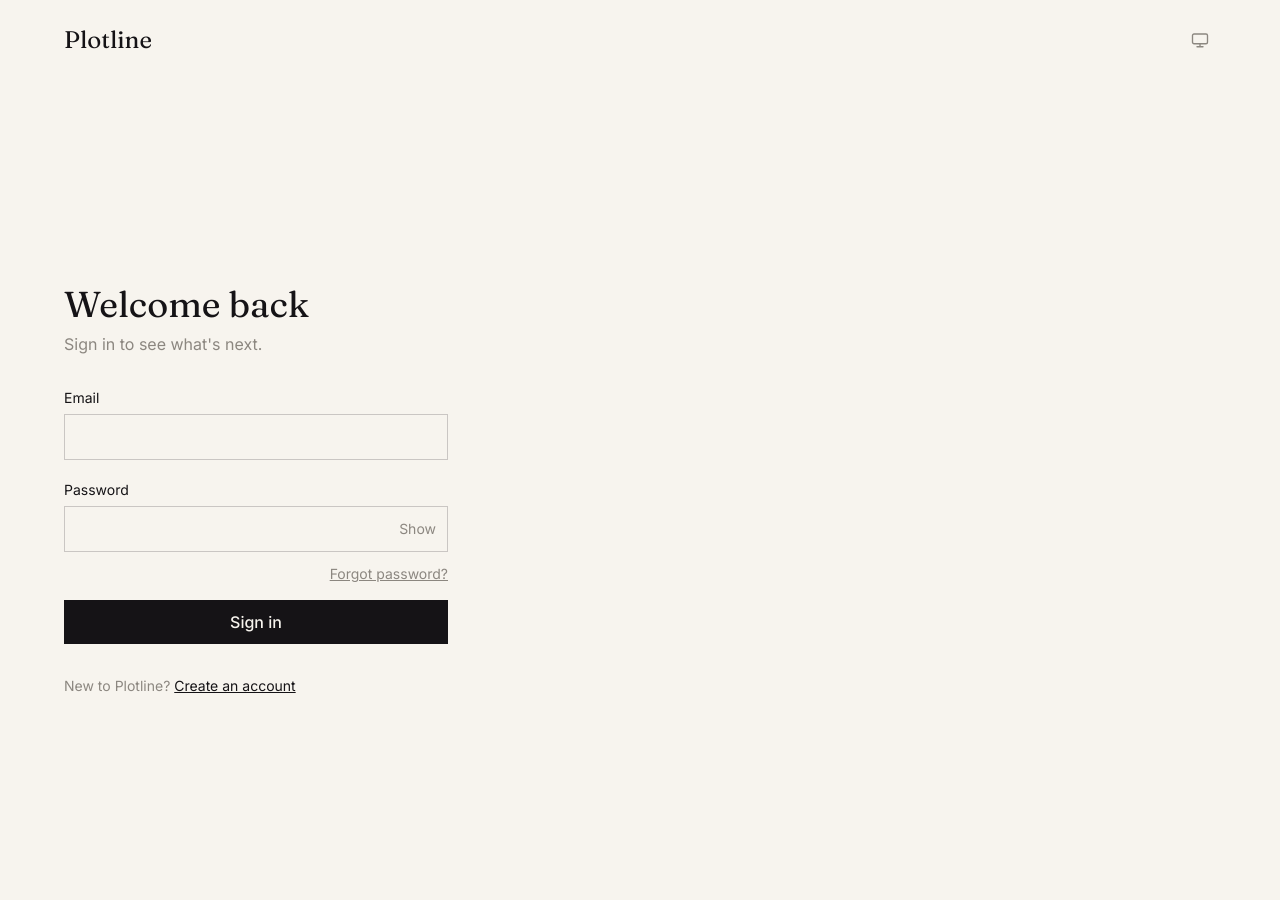
Test: Login page › shows FastAPI validation errors in a readable form
Type "sue@example.com" into the field labelled "Email".
click(256, 437); type("sue@example.com")  # box [64,414,448,460]
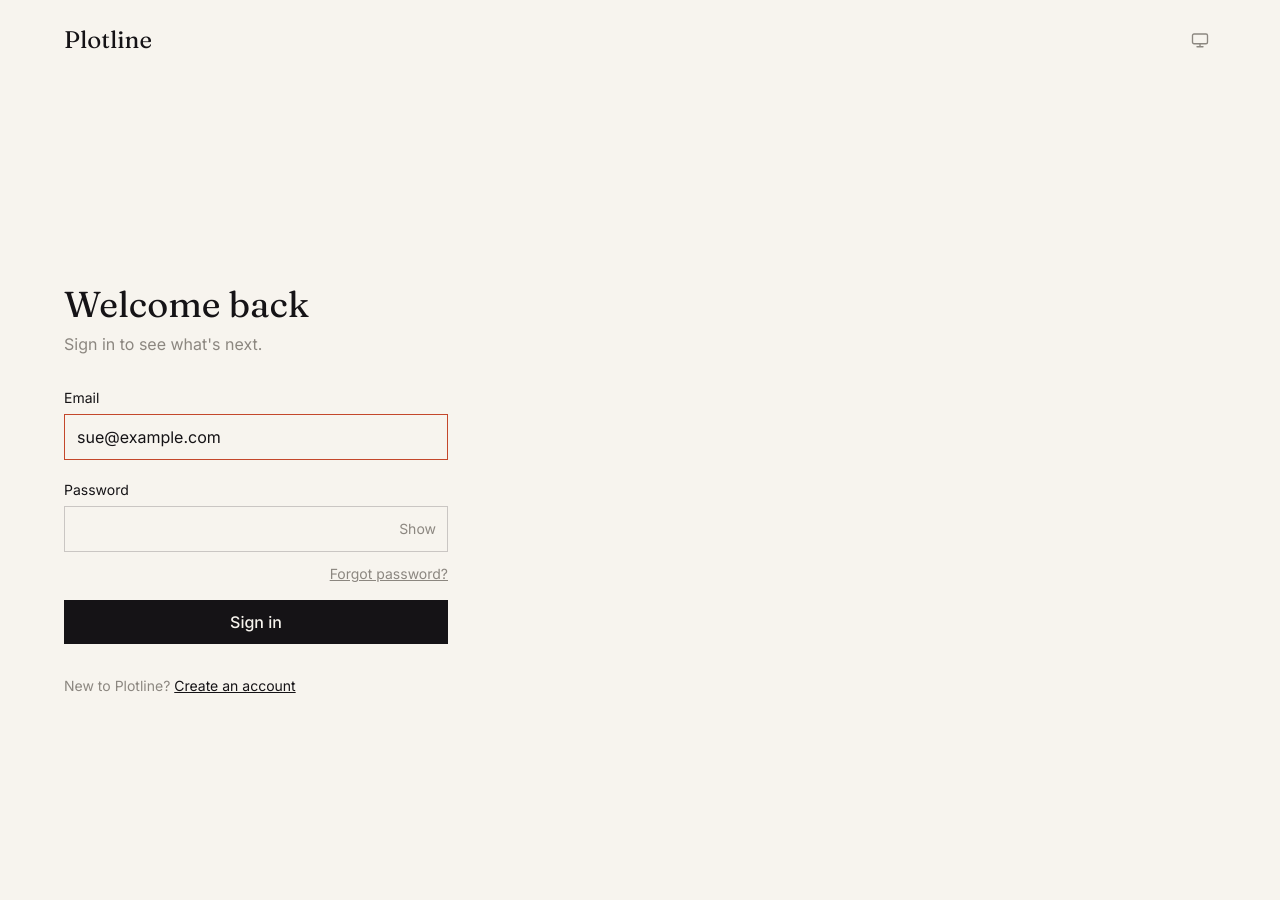
Type "correct-horse" into the password field labelled "Password".
click(256, 529); type("correct-horse")  # box [64,506,448,552]
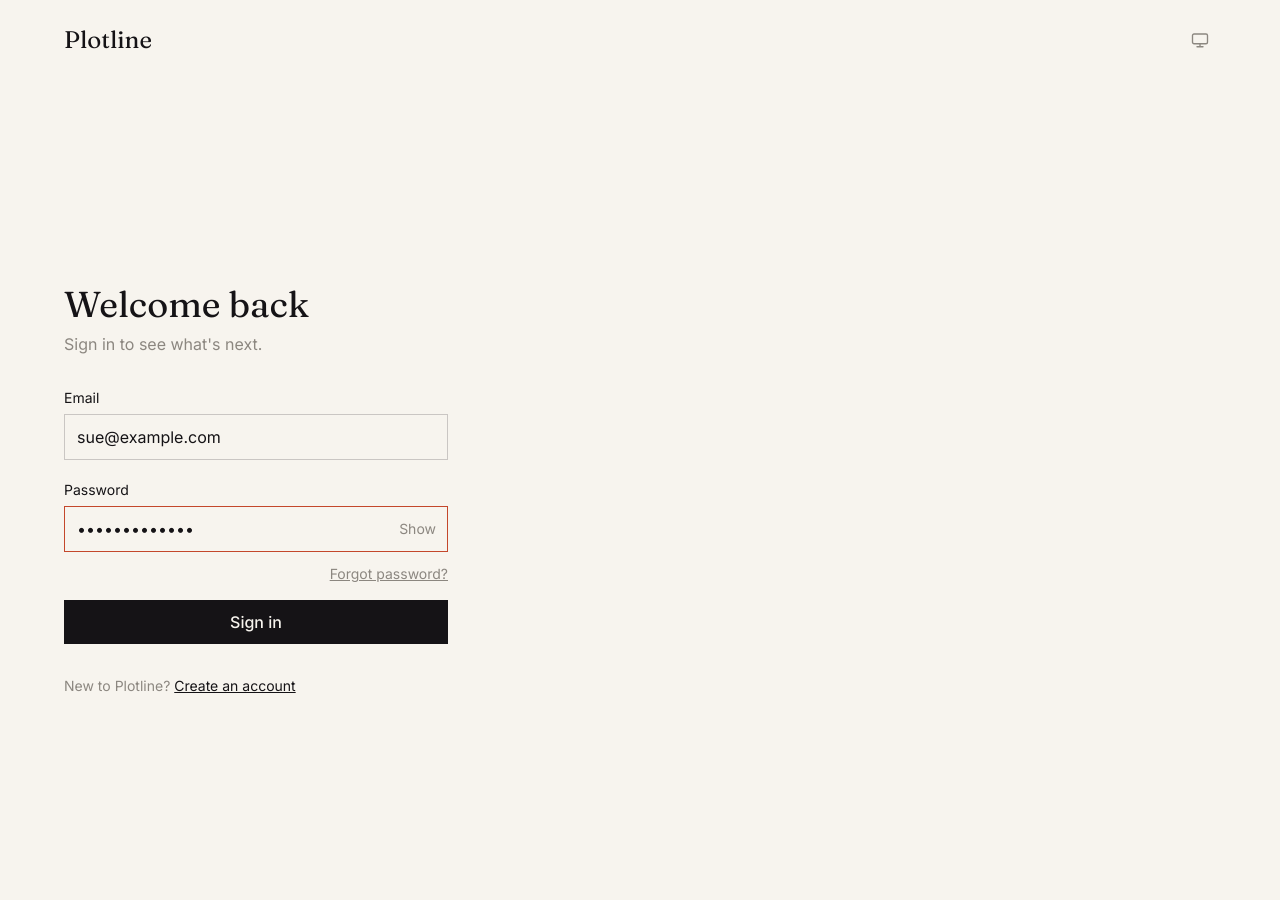
Click the button "Sign in".
click(256, 622)  # box [64,600,448,644]
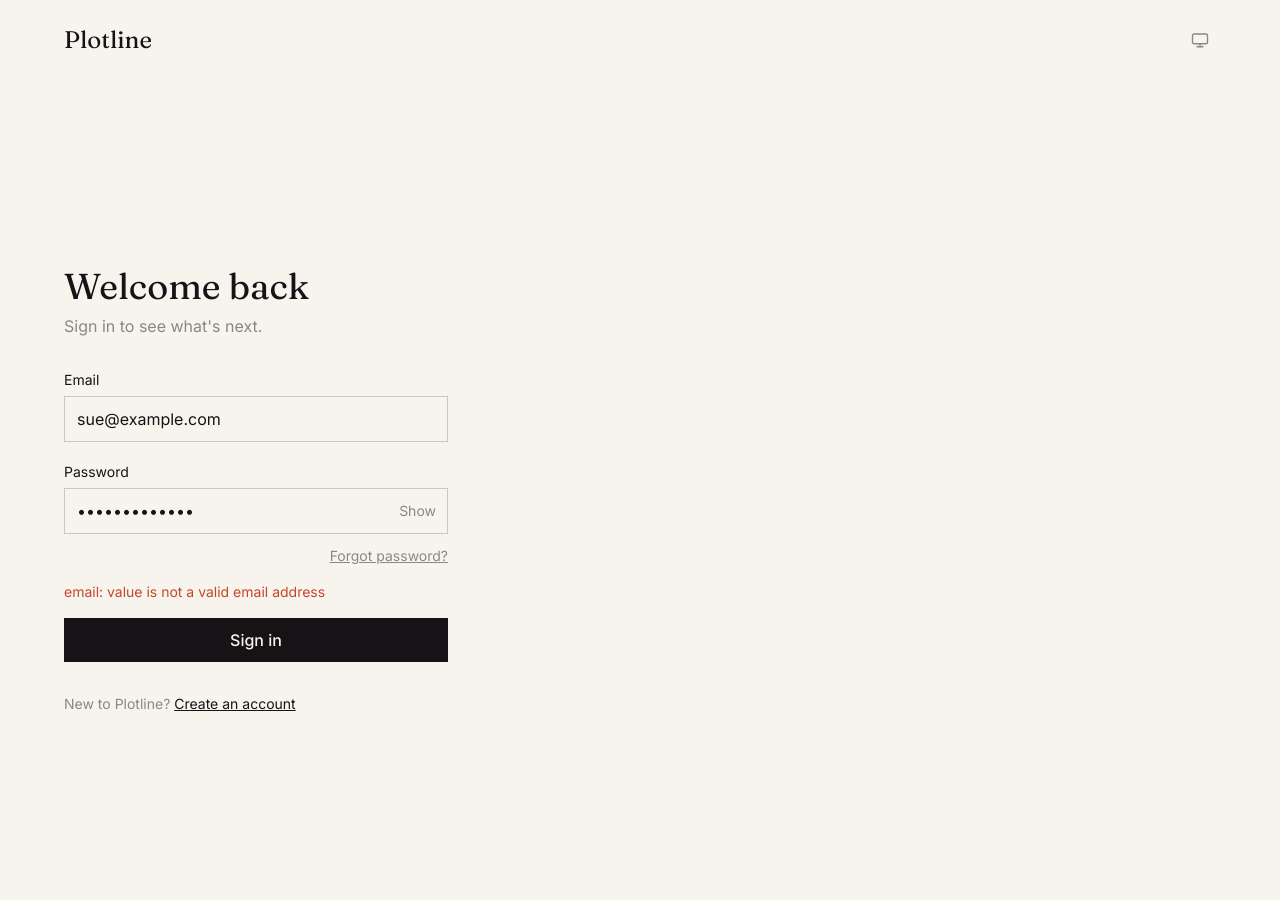
Expected: the text "email: value is not a valid email address" is shown, [64,583,325,600]
